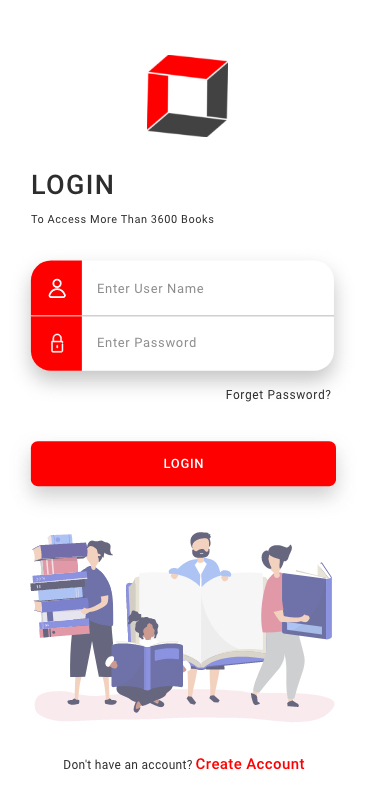EditText: (31, 260, 335, 317), (31, 316, 335, 372)
Icon: (49, 279, 67, 299), (51, 334, 64, 354)
Image: (30, 531, 335, 723), (147, 56, 229, 138)
Text: (32, 214, 215, 224), (33, 174, 113, 196), (64, 758, 193, 770), (196, 757, 305, 770), (226, 389, 331, 402), (99, 283, 204, 294), (99, 337, 197, 348)
TextButton: (32, 441, 337, 487)
